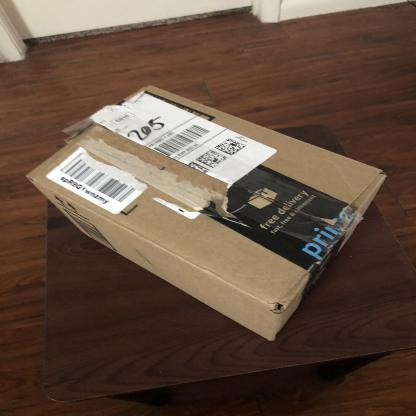package: (7, 72, 402, 358)
